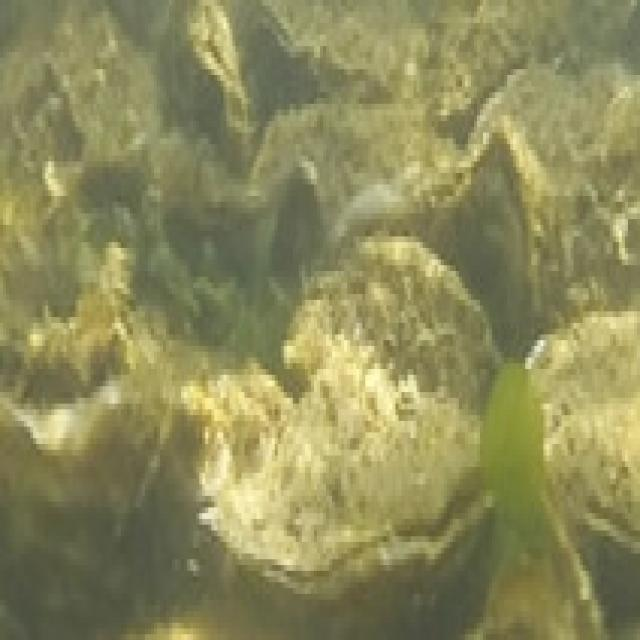Oyster-Closed: (196, 340, 491, 626), (523, 309, 640, 564)
Oyster-Indeterminate: (278, 231, 504, 430), (247, 99, 464, 286), (470, 70, 598, 288), (0, 385, 168, 525), (464, 130, 563, 354), (255, 0, 421, 103), (477, 519, 605, 640), (166, 2, 253, 167), (323, 165, 470, 255), (275, 173, 324, 294)
